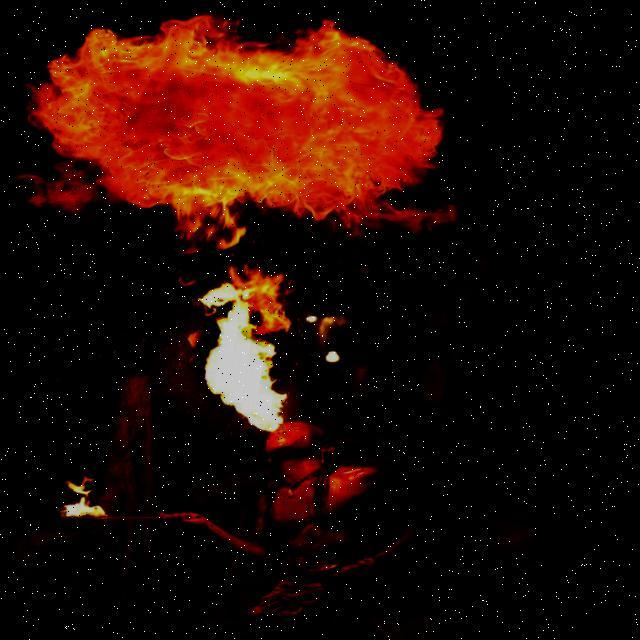Fire: (10, 15, 496, 343), (64, 471, 133, 521)
